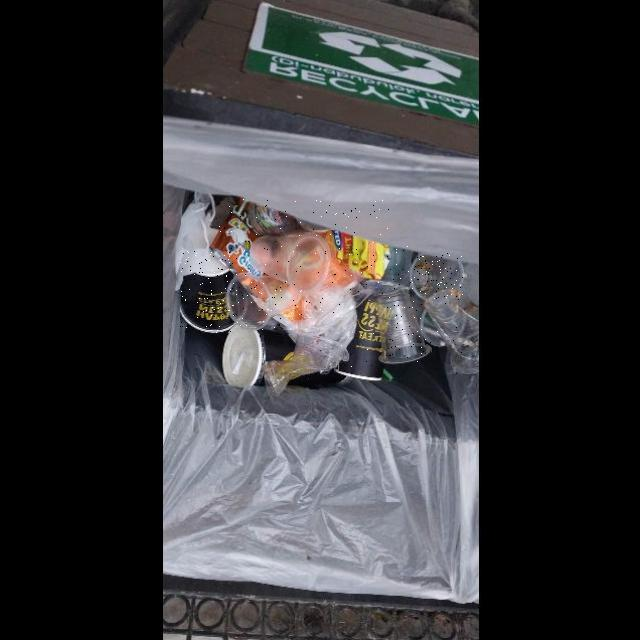paper: (181, 251, 235, 332), (336, 295, 386, 380)
plastic: (250, 230, 333, 294), (264, 334, 349, 395), (425, 289, 479, 373), (226, 272, 303, 330), (372, 289, 431, 363), (360, 246, 413, 296), (410, 253, 466, 300)
wrapper: (211, 199, 390, 325)
